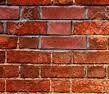brick: (6, 50, 51, 64), (5, 78, 50, 92), (41, 6, 86, 19), (40, 65, 85, 78), (7, 21, 47, 34), (72, 20, 109, 34), (72, 79, 109, 93), (41, 37, 87, 48), (73, 51, 109, 63), (48, 20, 71, 35), (88, 36, 109, 50), (86, 65, 108, 78), (50, 79, 71, 92), (21, 5, 40, 19), (1, 6, 21, 19), (20, 65, 40, 78), (52, 51, 72, 63), (18, 37, 39, 48), (1, 65, 20, 77), (87, 6, 104, 19), (1, 36, 17, 48)
